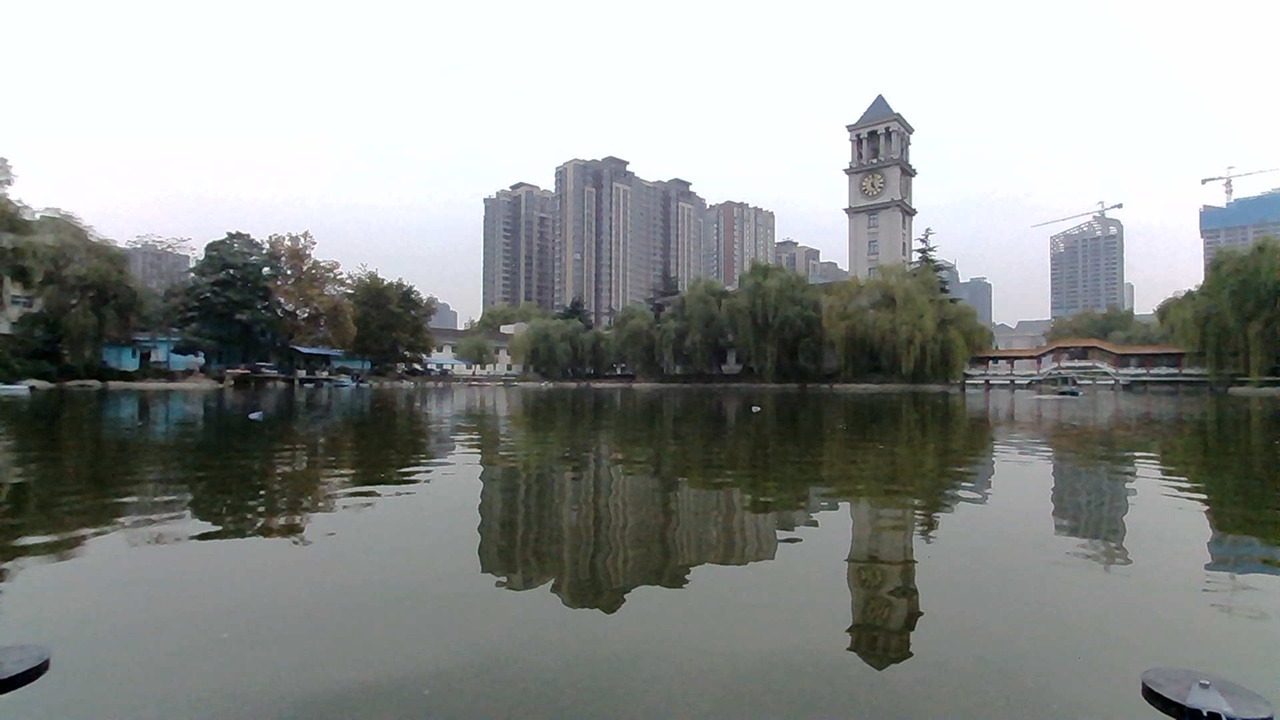bottle: (245, 394, 294, 431), (739, 393, 782, 422)
